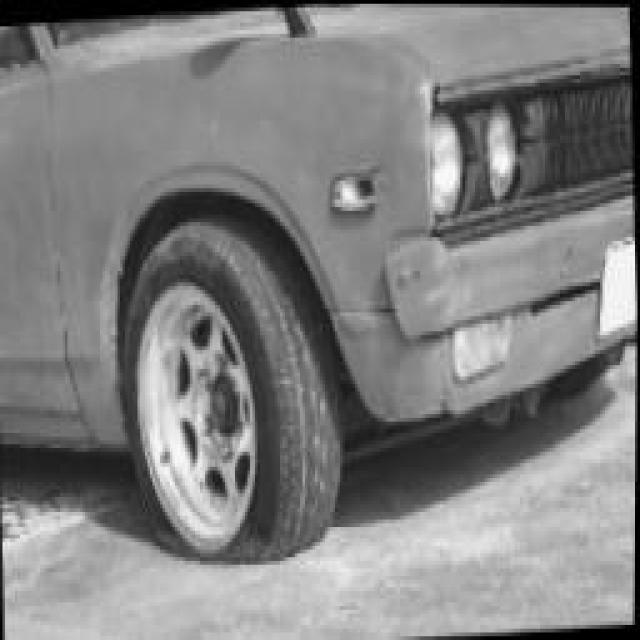Bumper: (342, 233, 522, 434)
